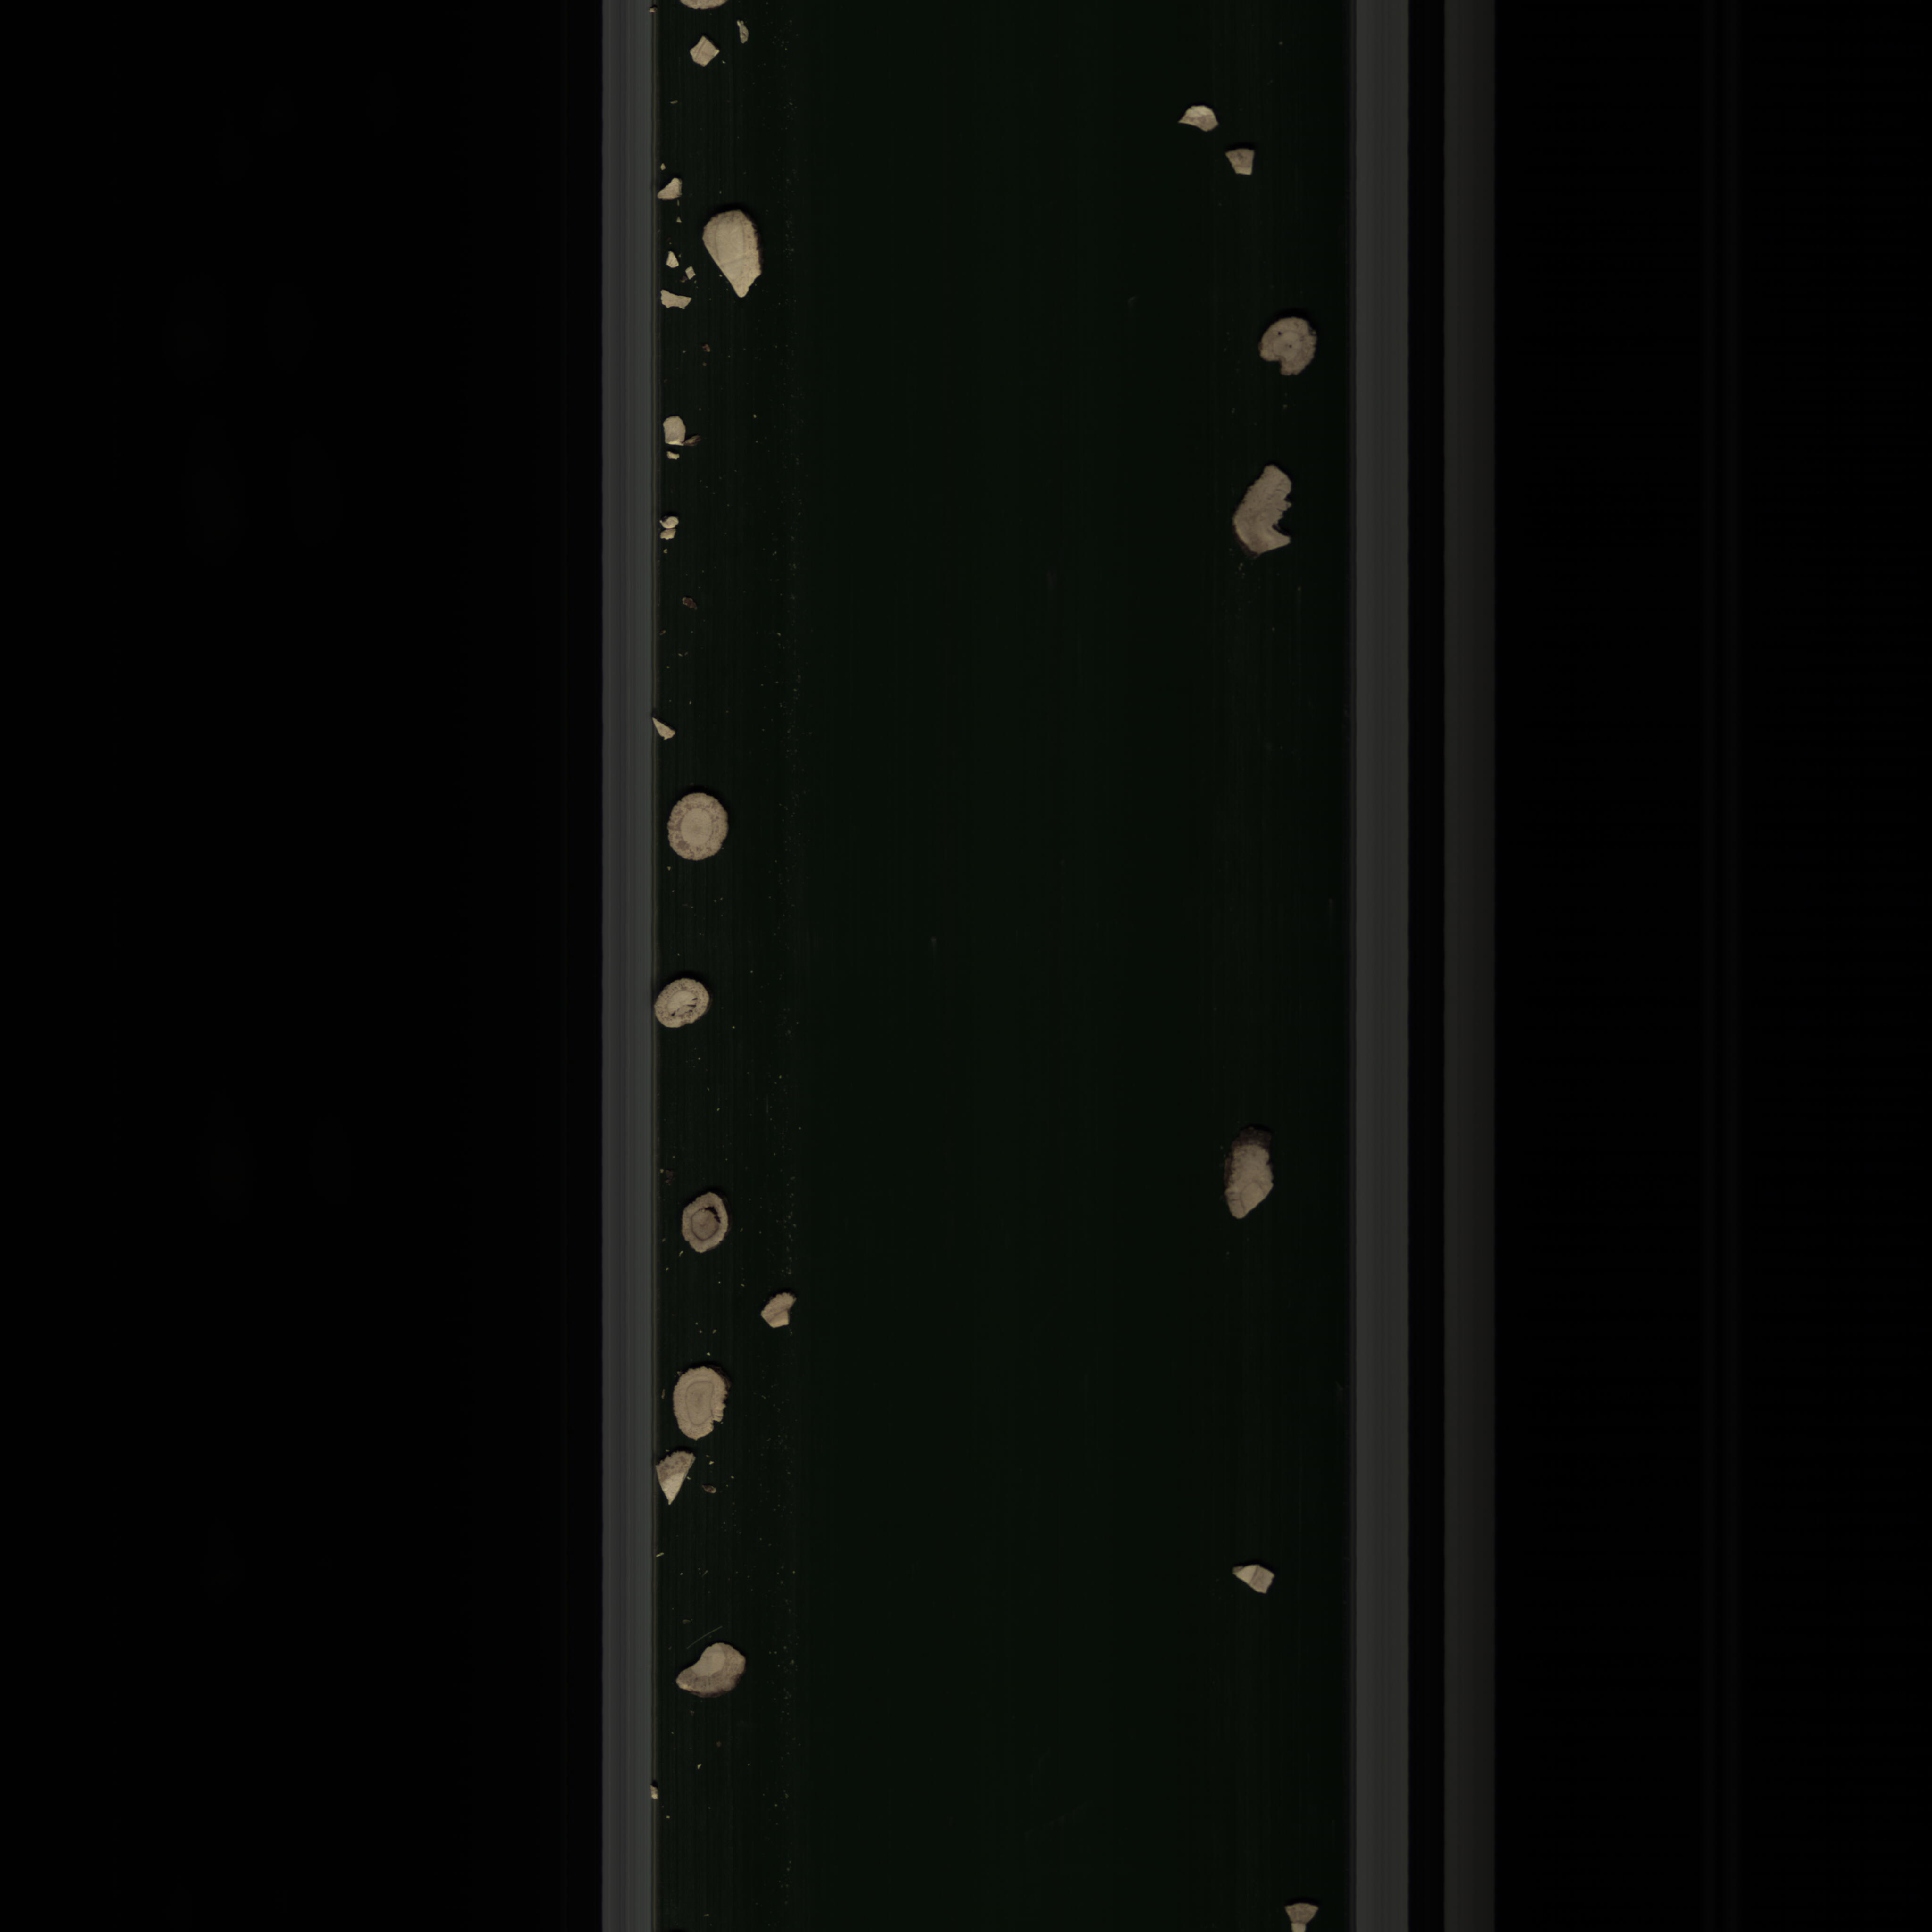debris: (697, 207, 773, 306), (1230, 460, 1300, 563), (1219, 1125, 1283, 1230), (665, 1637, 761, 1704), (649, 1451, 701, 1507), (752, 1283, 803, 1330), (1221, 1560, 1283, 1599), (658, 414, 701, 456), (681, 27, 722, 71), (1219, 145, 1265, 184), (1178, 103, 1224, 140), (653, 281, 699, 317), (653, 511, 686, 554), (655, 177, 692, 203)
hole: (672, 1185, 736, 1261)
moldy: (1256, 303, 1320, 382)
